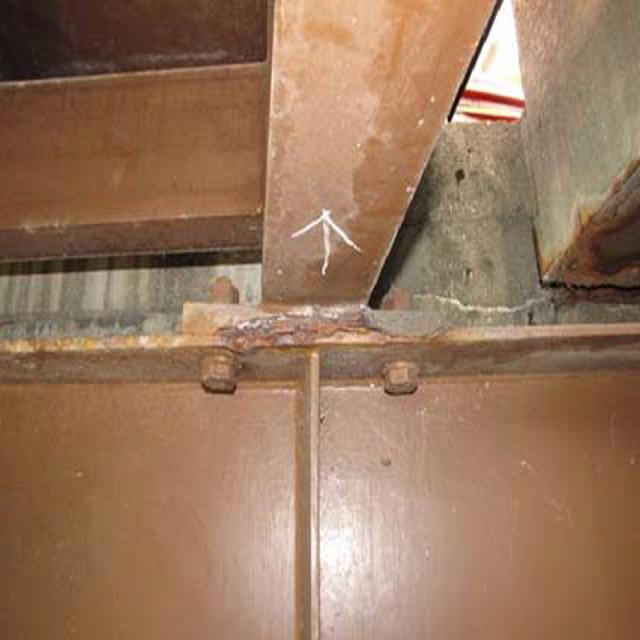corrosion: (200, 257, 404, 356)
